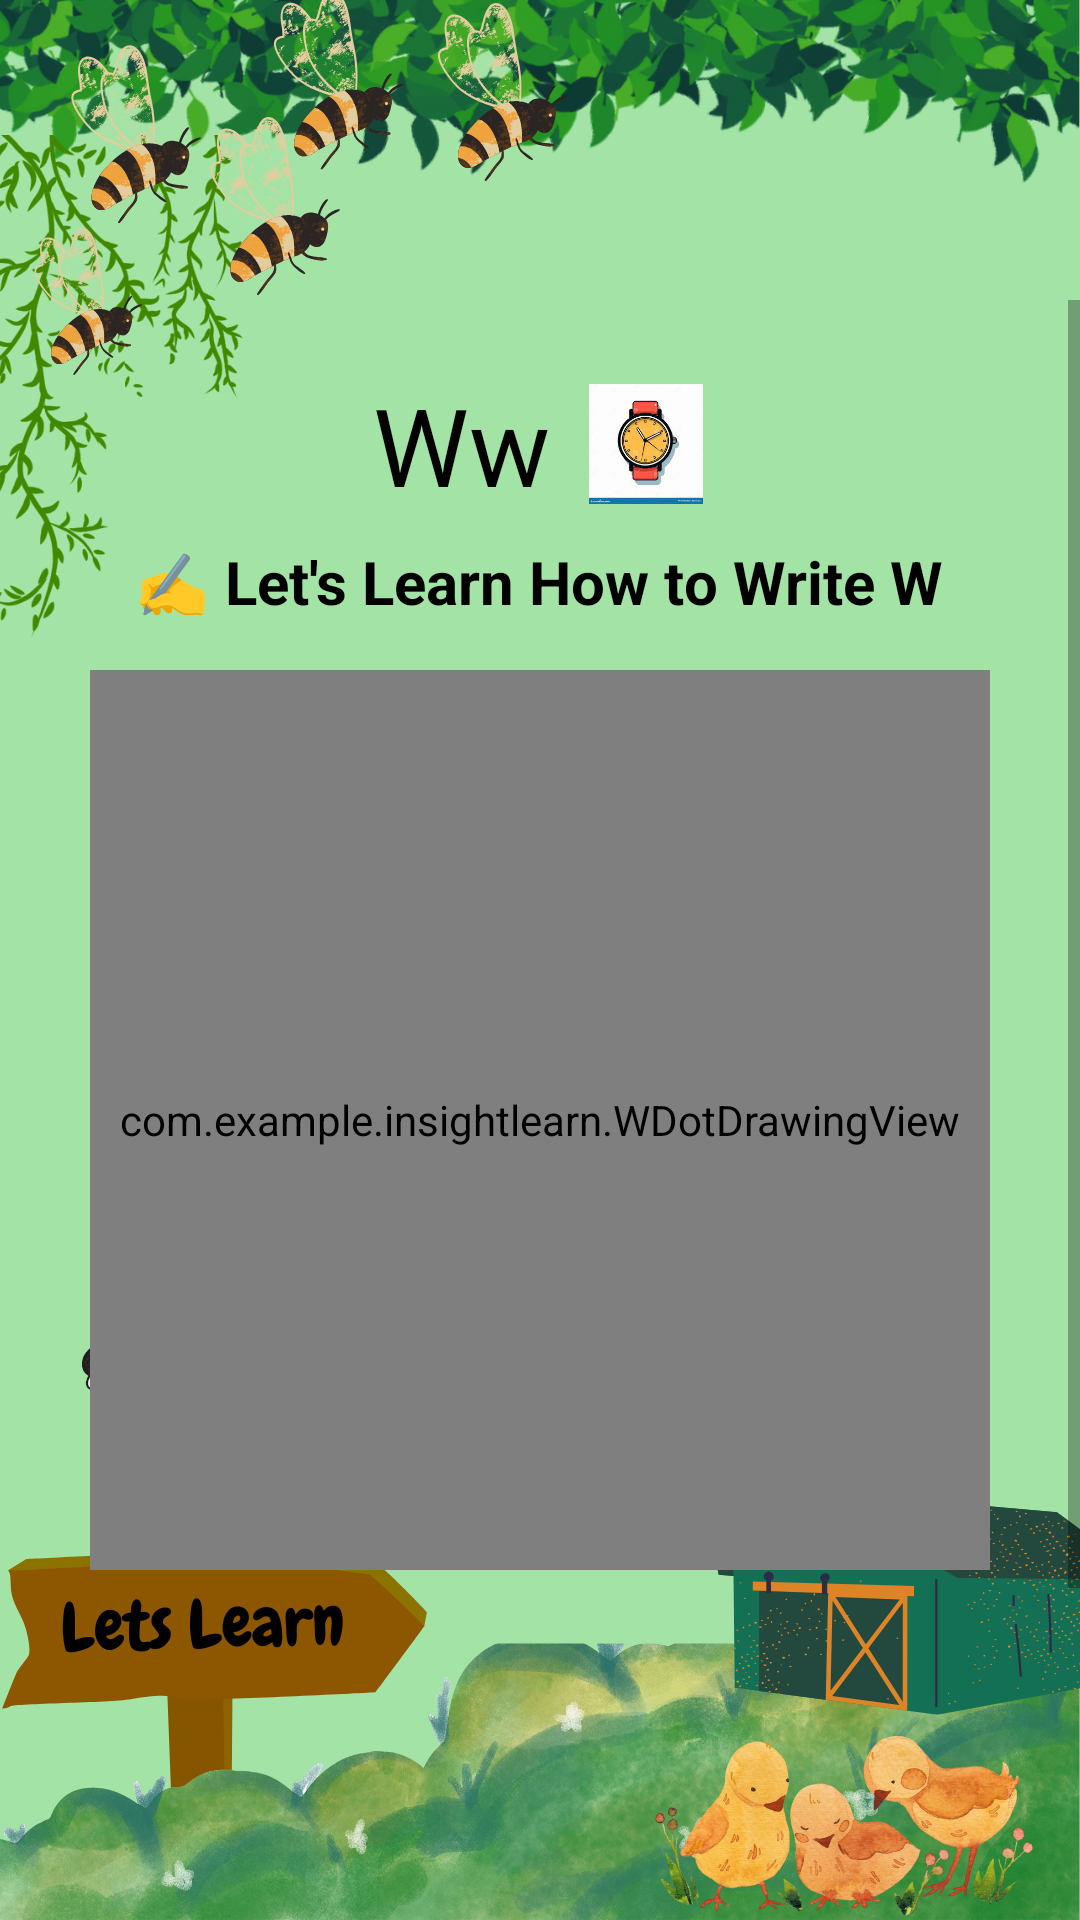

Where icons sit on this 1080 × 1920 app screen, as (x1, y1, x2, y2):
Watch: (589, 384, 703, 504)
